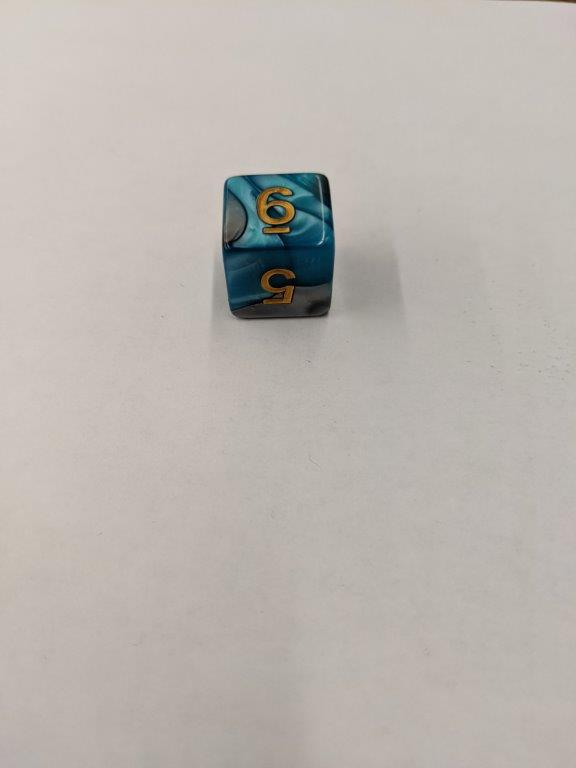d6-6: (220, 171, 339, 323)
